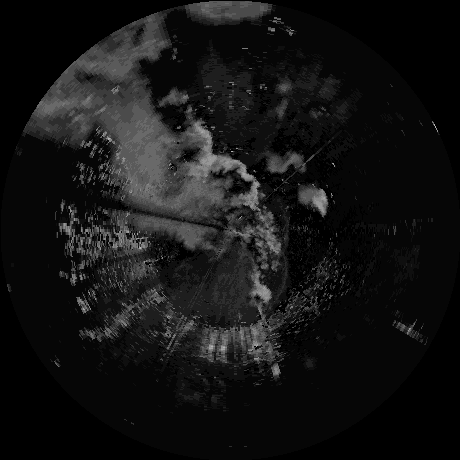frontgust: (280, 209, 294, 247), (279, 254, 288, 293)
